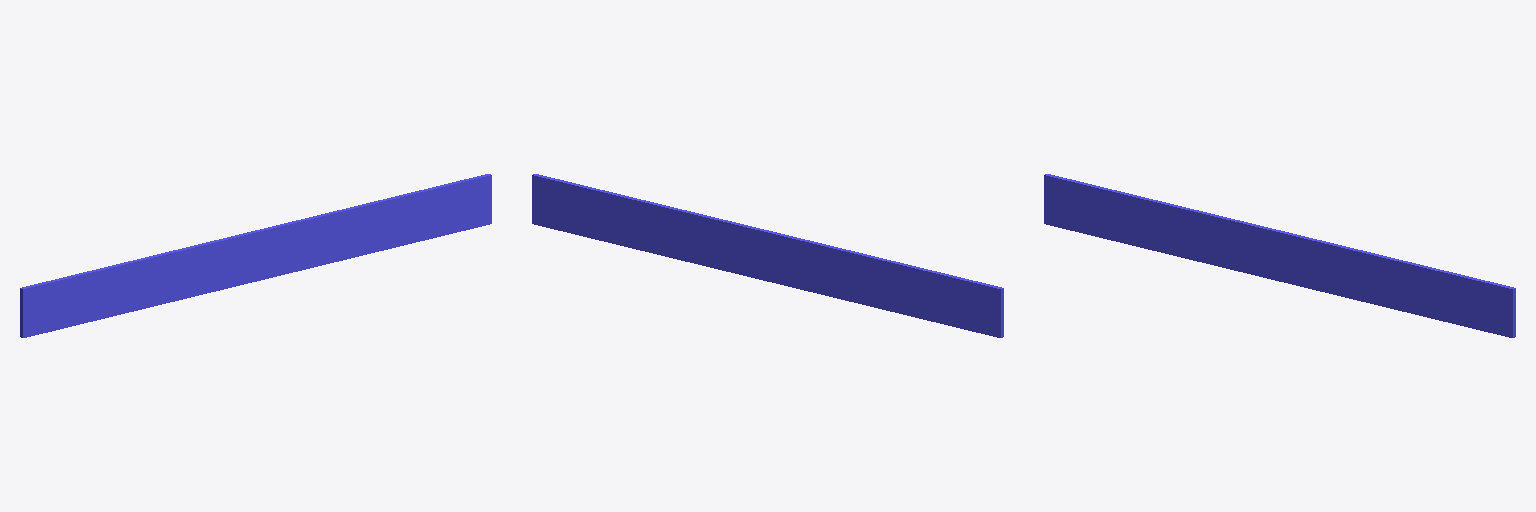
robot.urdf — block:
<robot name="block">
  <link name="block">
    <visual>
      <origin xyz="0 0 0"/>
      <geometry>
        <box size="0.6 0.005 0.060" />
      </geometry>
      <material name="red">
        <color rgba="0.4 0.4 1.0 1.0"/>
      </material>
    </visual>

    <collision>
      <origin xyz="0 0 0"/>
      <geometry>
        <box size="0.6 0.005 0.060" />
      </geometry>
    </collision>
<contact>
      <lateral_friction value="1.0"/>
      <rolling_friction value="0.0001"/>
      <inertia_scaling value="3.0"/>
    </contact>
    <inertial>
      <origin rpy="0 0 0" xyz="0 0 0"/>
       <mass value="0.1"/>
       <inertia ixx="1" ixy="0" ixz="0" iyy="1" iyz="0" izz="1"/>
    </inertial>
  </link>

</robot>

--- Render facts (derived) ---
3 views of the same robot in one strip: view 1: azimuth 30°, elevation 25°; view 2: azimuth 150°, elevation 25°; view 3: azimuth 330°, elevation 25° (orthographic).
Model block with 1 links and 0 joints (none), rooted at block, posed every joint at zero.
Links seen in each view (by area): view 1: block; view 2: block; view 3: block.
Boxes of the visible links, x1,y1,x2,y2 form: block: (20,174,491,337); block: (532,174,1003,337); block: (1044,174,1515,337).
Size in the robot's own frame: 0.6 by 0.005 by 0.06 metres.
Geometry: primitives only (box / cylinder / sphere), no mesh files.